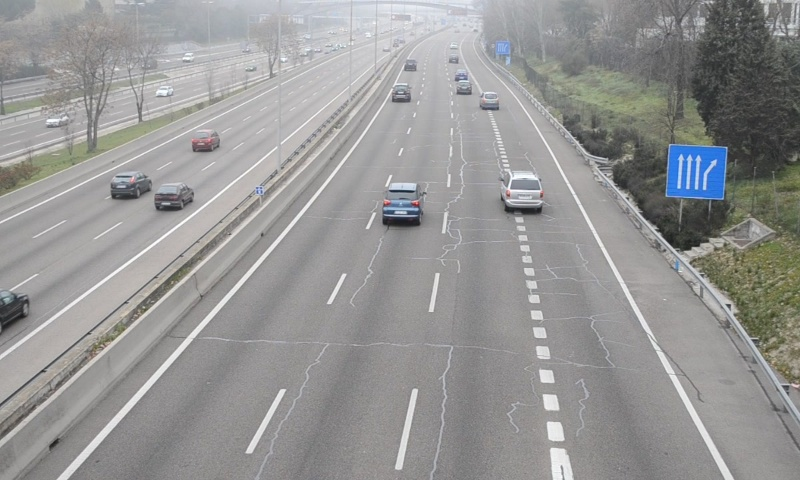car: (500, 170, 542, 209), (382, 183, 422, 222), (390, 82, 412, 102), (480, 90, 499, 110), (455, 79, 473, 95)
